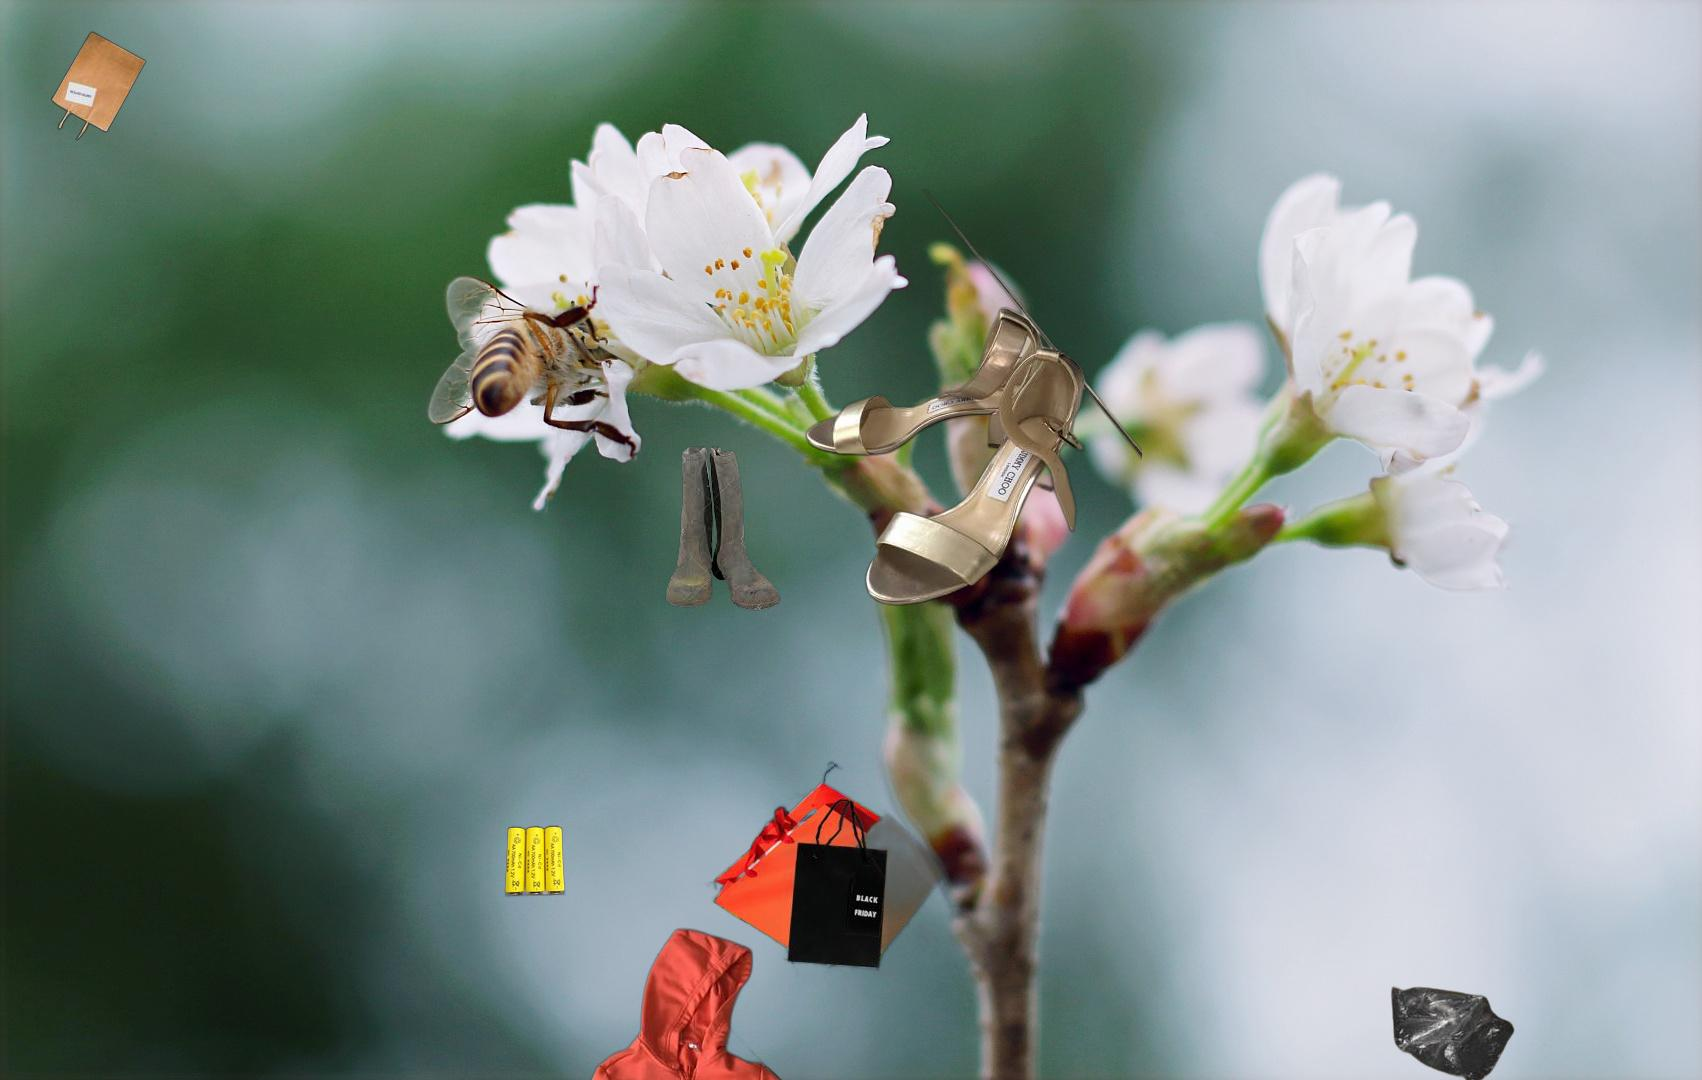battery: (502, 823, 568, 899)
clothes: (484, 924, 872, 1080)
paper-bag: (699, 745, 970, 996), (48, 30, 147, 143)
plastic-bag: (1287, 984, 1517, 1080)
shoes: (803, 189, 1142, 609), (663, 444, 783, 613)
